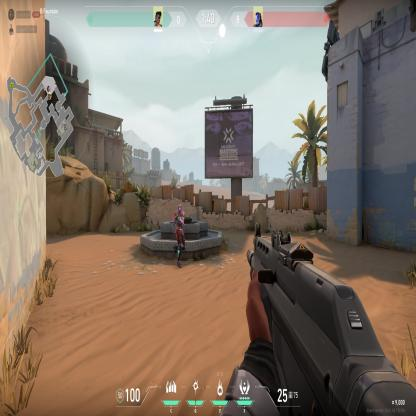enemy: (171, 202, 187, 270)
